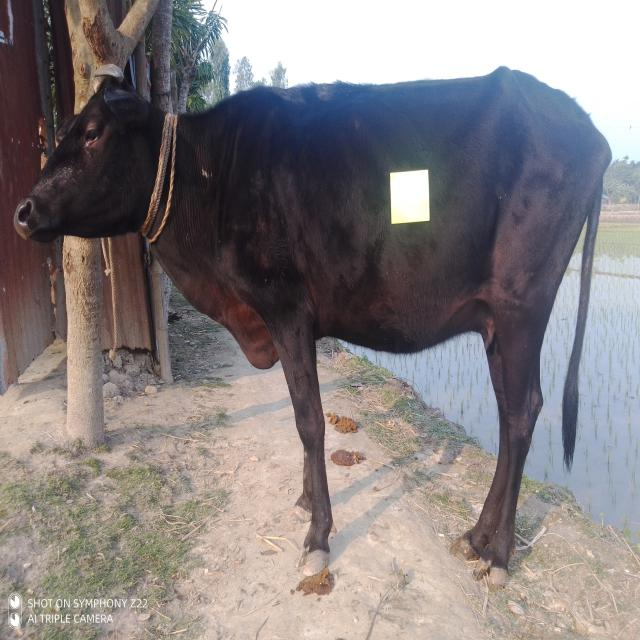badan_sapi: (269, 89, 589, 349)
sapi: (12, 61, 620, 614)
